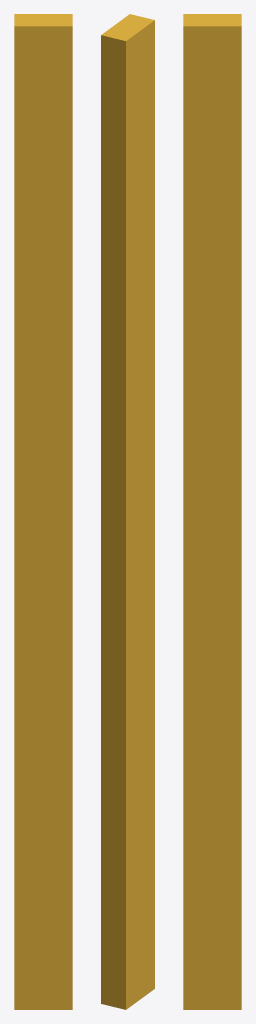
The model's file is Roop1.fbx.
3 renders of one model, left to right at view 1: azimuth 90°, elevation 25°; view 2: azimuth 150°, elevation 25°; view 3: azimuth 270°, elevation 25°, orthographic.
Parts seen in each view (by area): view 1: Roop1; view 2: Roop1; view 3: Roop1.
Boxes of the visible parts, x1,y1,x2,y2 form: Roop1: (14, 14, 72, 1009); Roop1: (101, 14, 154, 1009); Roop1: (183, 14, 241, 1009).
Bounding box in the file's own units: 1 × 37 × 2.
1 material, 1 textured.
